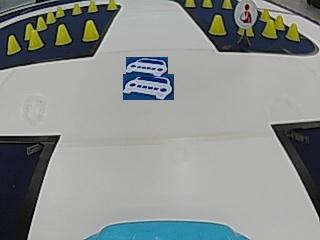cone: (209, 15, 227, 35), (55, 24, 72, 45), (83, 20, 99, 41), (28, 28, 43, 49), (262, 17, 277, 38), (286, 22, 300, 41), (7, 34, 21, 53), (36, 15, 47, 29), (106, 0, 118, 11), (71, 3, 82, 15), (87, 1, 98, 13), (46, 11, 56, 23), (55, 6, 65, 17), (221, 0, 233, 9), (201, 0, 213, 8), (184, 0, 196, 8)
patient: (234, 0, 257, 26)
